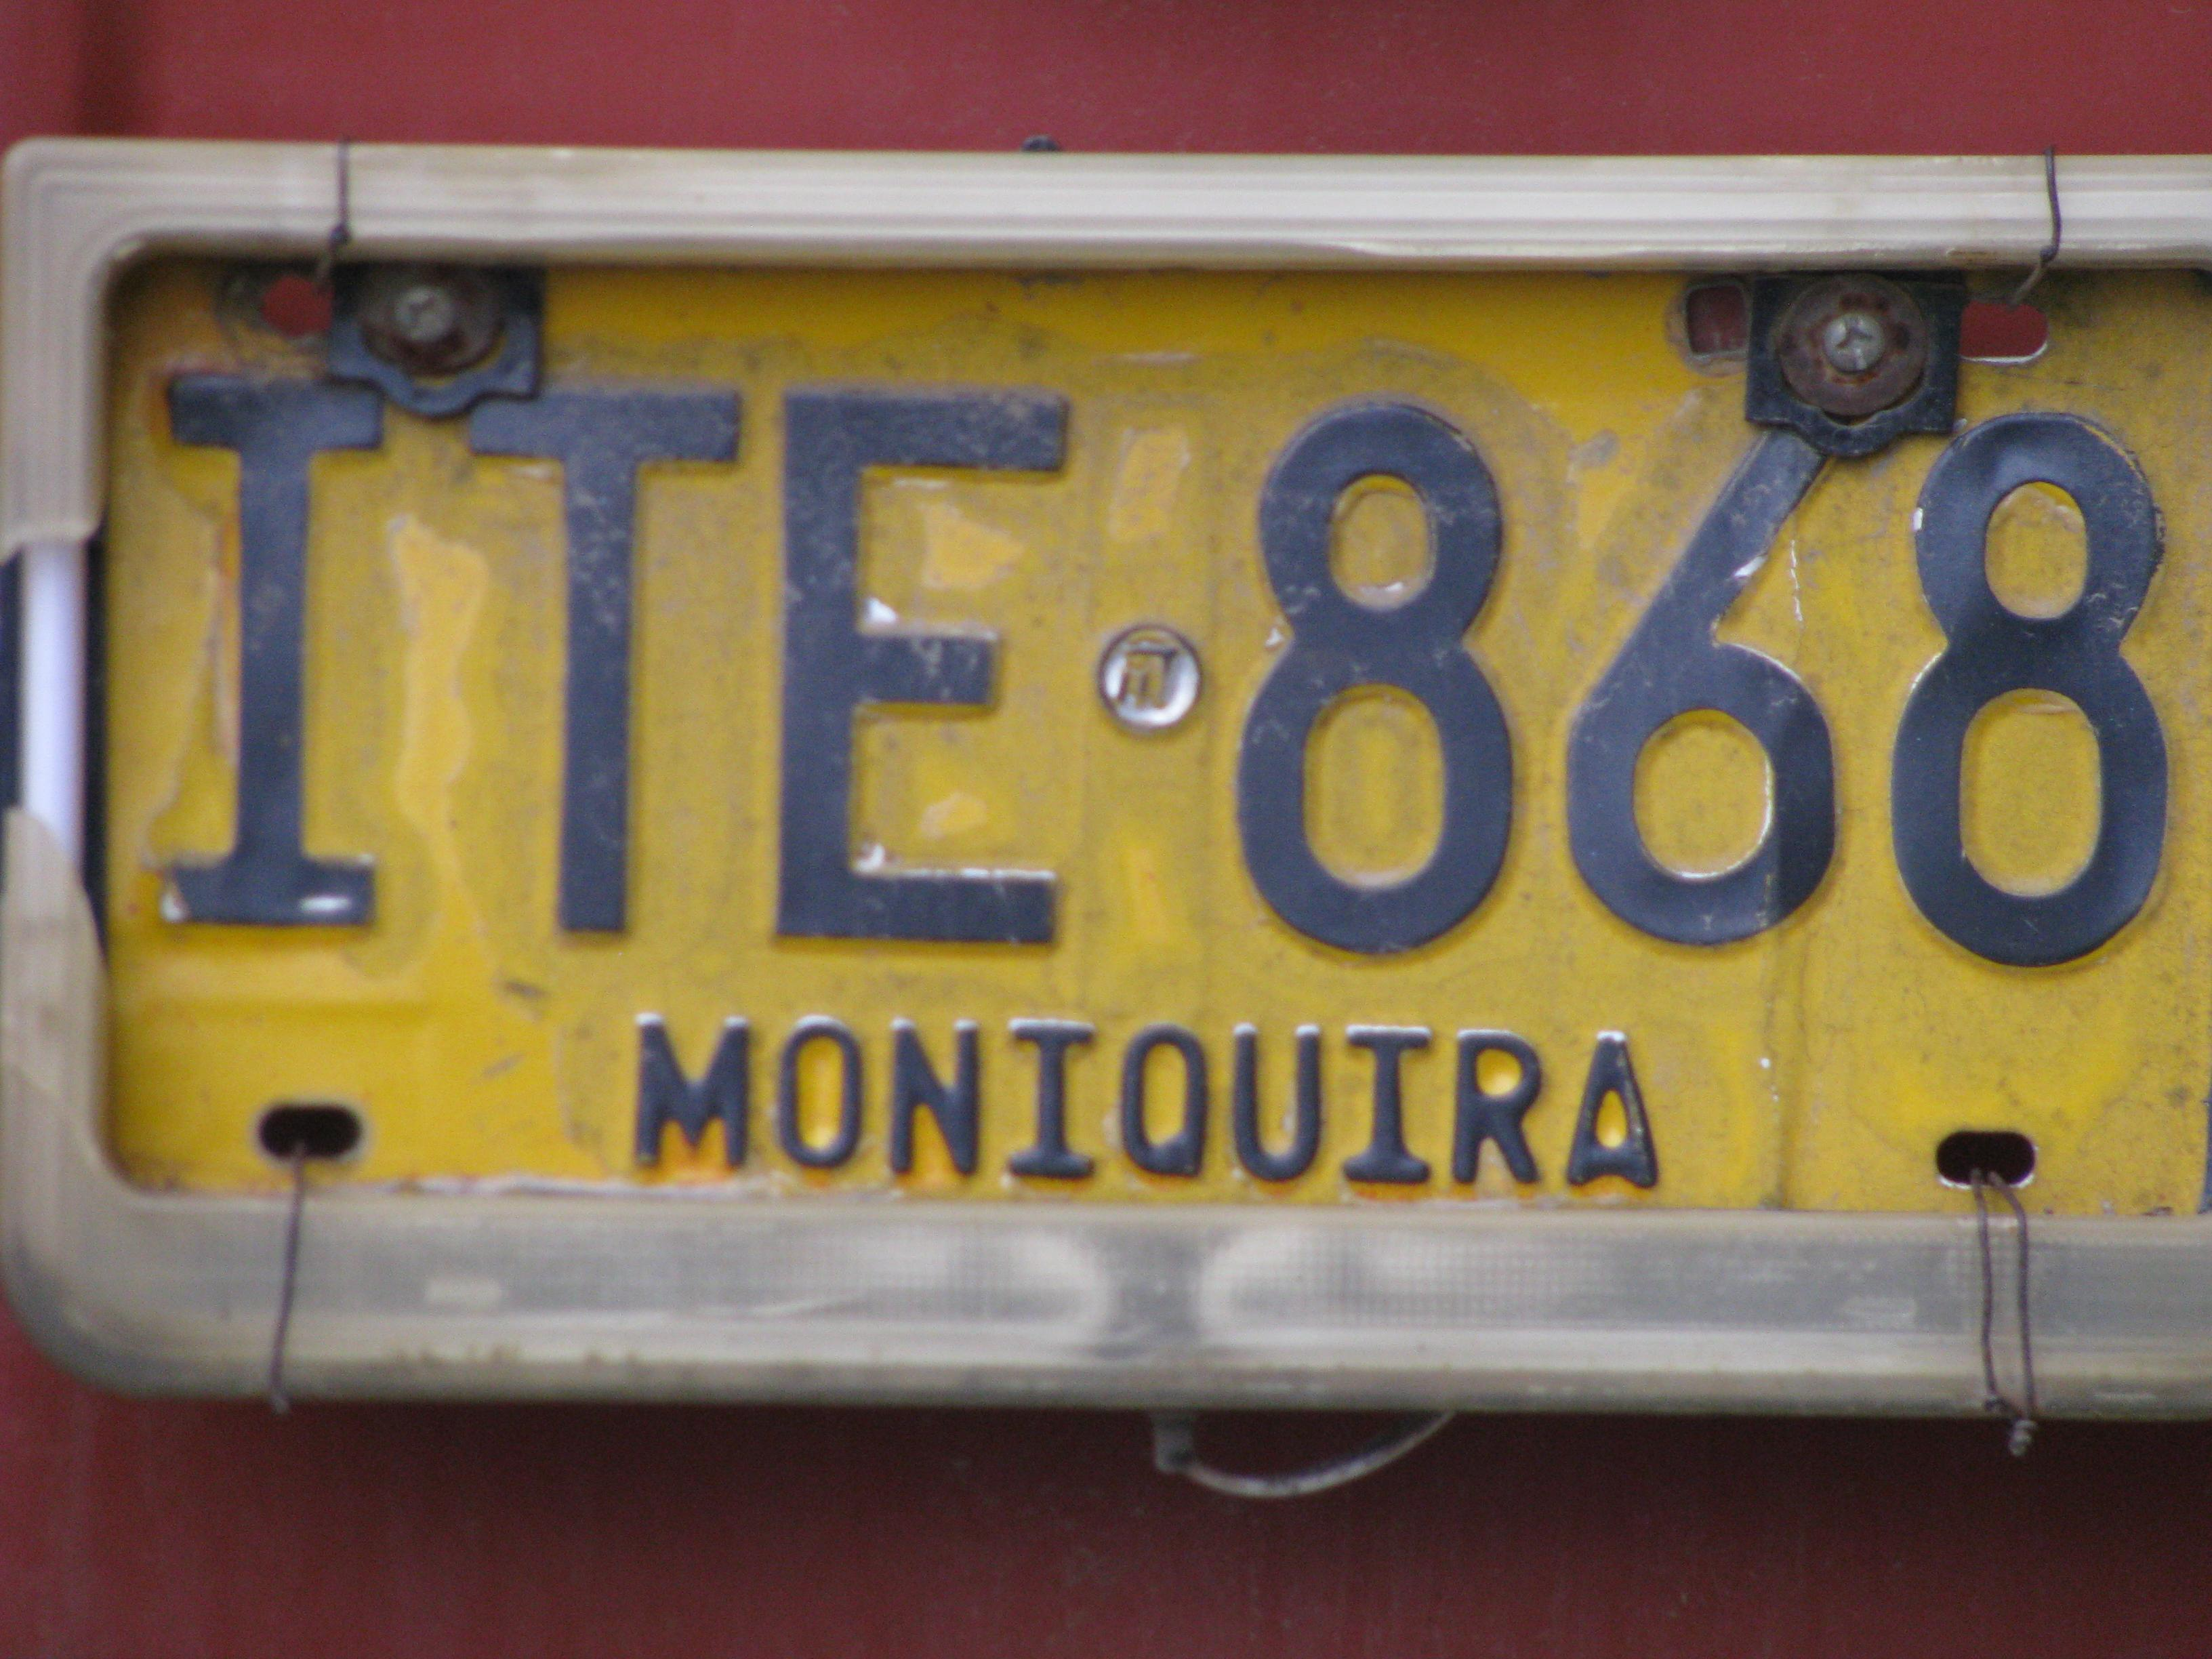placas: (74, 210, 2202, 1240)
